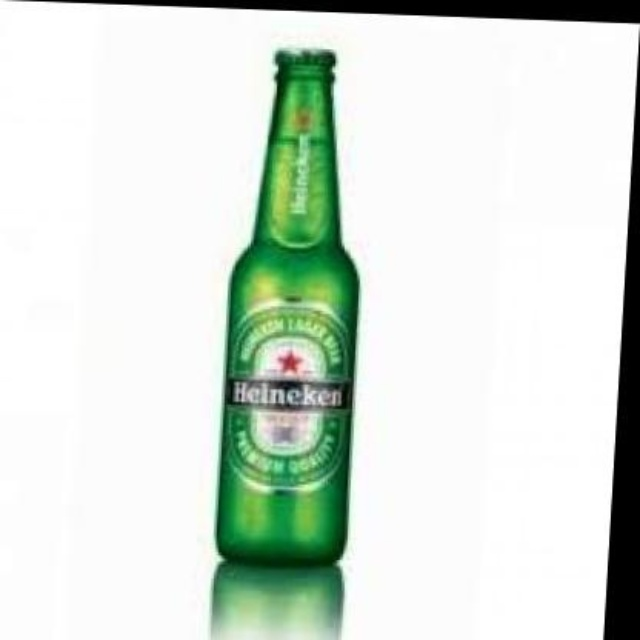trash: (217, 51, 357, 562)
